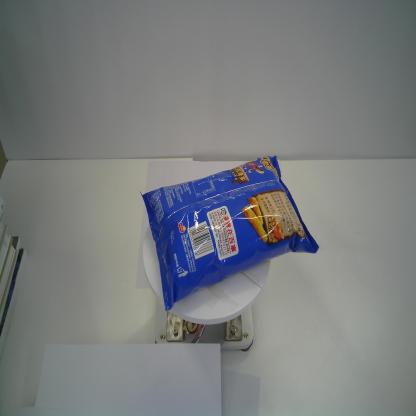Puffed Food: (138, 153, 320, 313)
